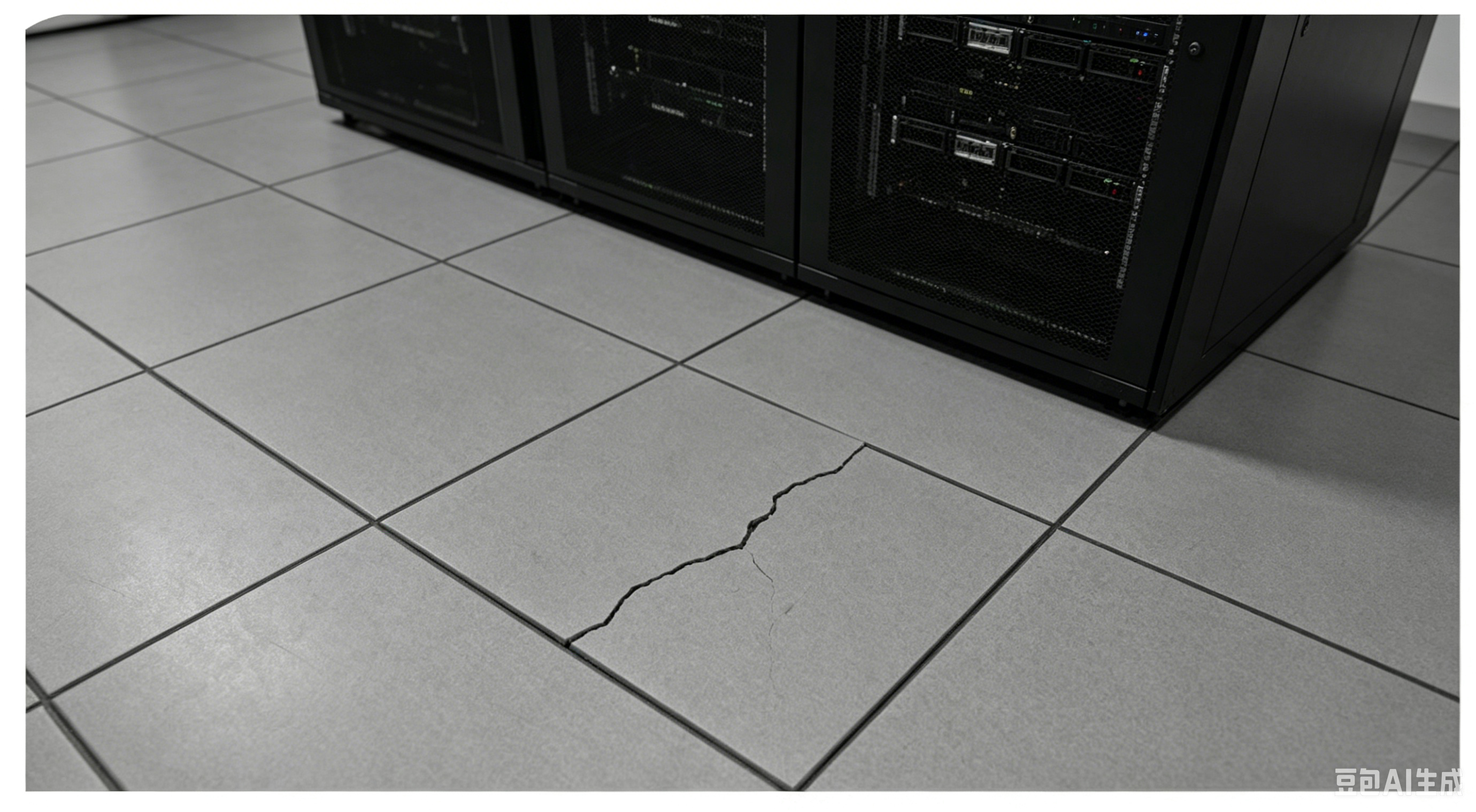floor_defect: (567, 558, 700, 652), (755, 449, 874, 516), (678, 515, 790, 565)
